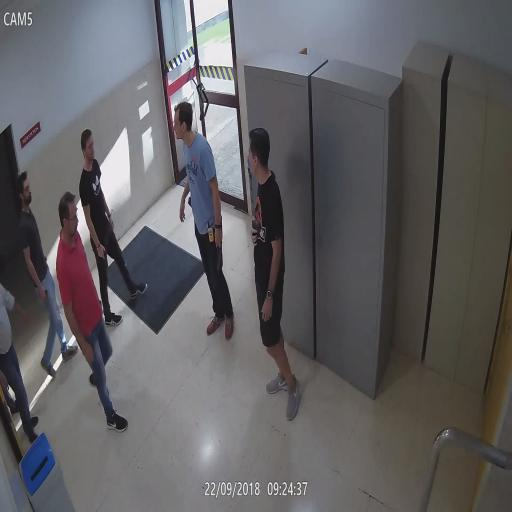Handgun: (97, 245, 109, 287), (250, 220, 262, 250), (38, 288, 50, 314)
